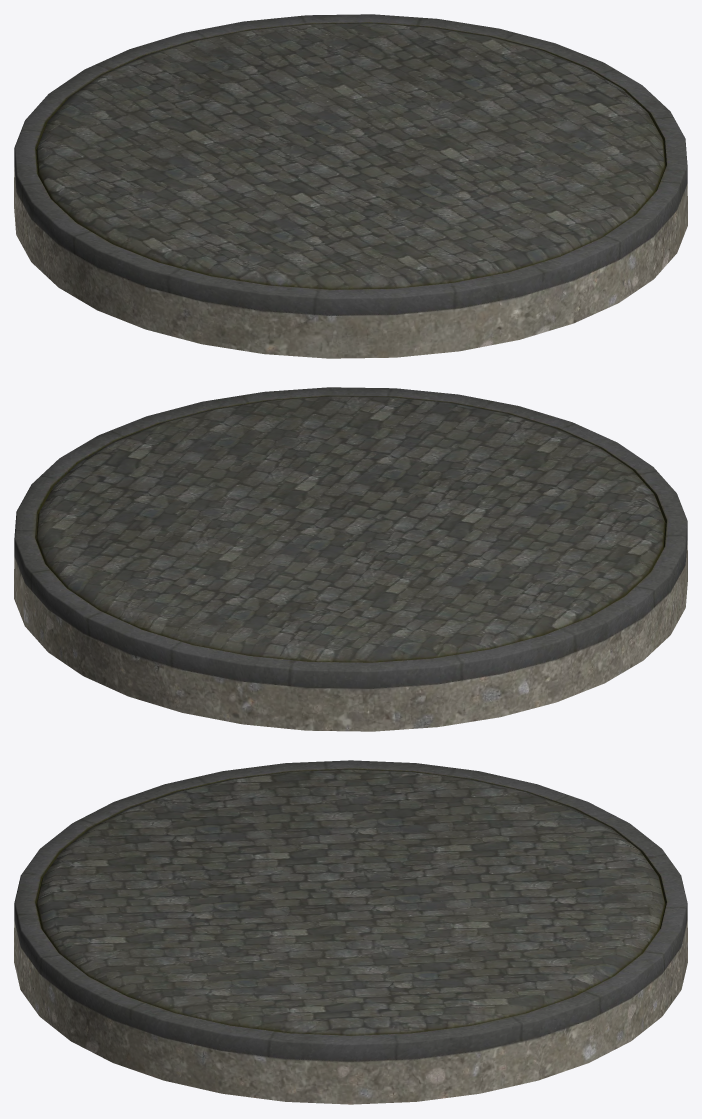
File: mostrador.glb
3 views of the same model, one above another, from view 1: azimuth 30°, elevation 25°; view 2: azimuth 150°, elevation 25°; view 3: azimuth 270°, elevation 25° (orthographic).
Parts seen in each view (by area): view 1: Object_2; view 2: Object_2; view 3: Object_2.
Part boxes in pixels (x1,y1,x2,y2): Object_2: [14, 14, 687, 358]; Object_2: [14, 387, 687, 731]; Object_2: [14, 760, 687, 1104].
Size of the model in its own units: 3.4 by 0.3619 by 3.4.
1 material, 1 textured.
